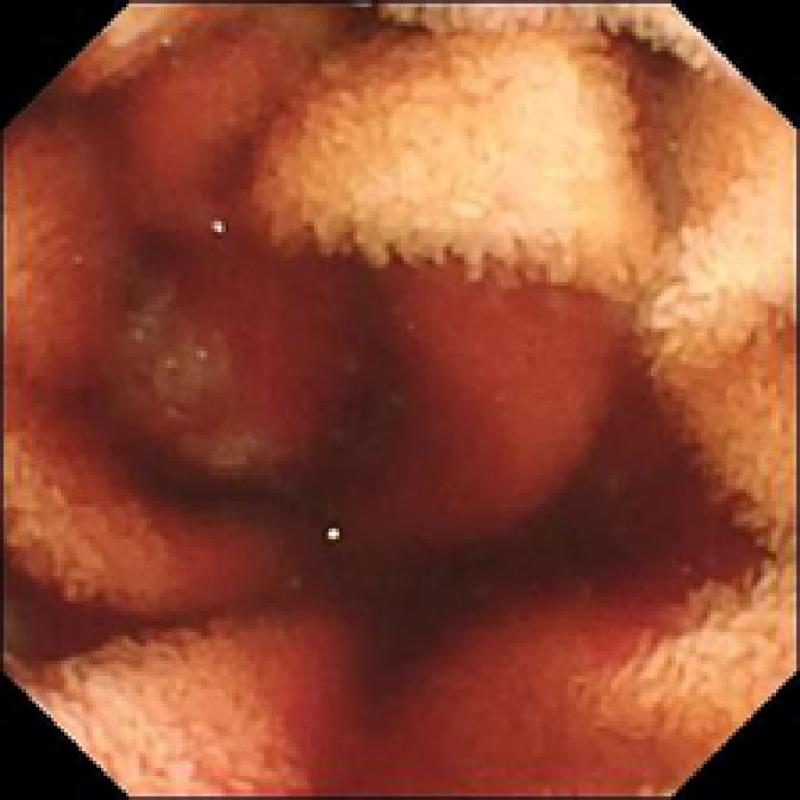bleeding: (18, 4, 746, 782)
